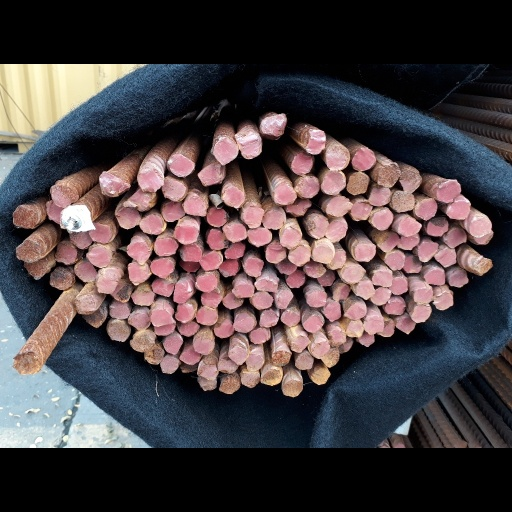dipstick: (97, 172, 130, 196), (235, 132, 262, 159), (324, 144, 350, 172), (166, 153, 195, 178), (259, 112, 289, 136), (126, 238, 153, 264), (213, 137, 238, 165), (173, 219, 199, 245), (435, 181, 463, 205), (115, 204, 143, 228), (13, 351, 39, 376), (126, 261, 151, 286), (320, 171, 346, 195), (161, 177, 187, 201), (303, 129, 326, 155), (305, 213, 329, 237), (184, 193, 208, 217), (81, 304, 105, 328), (130, 283, 155, 306), (326, 195, 352, 217), (49, 268, 75, 290), (468, 253, 492, 276), (413, 198, 437, 221), (352, 148, 375, 172), (60, 208, 84, 231), (137, 170, 162, 192), (294, 177, 320, 198), (288, 243, 311, 266), (240, 206, 263, 229), (369, 208, 393, 230), (290, 153, 314, 175), (278, 226, 302, 248), (265, 239, 287, 263), (22, 258, 46, 280), (390, 190, 415, 211), (399, 170, 421, 193), (346, 174, 369, 196), (325, 220, 348, 242), (321, 298, 343, 321), (162, 201, 184, 224), (205, 228, 228, 250), (106, 320, 129, 342), (96, 271, 119, 293), (342, 298, 366, 319), (221, 187, 245, 208), (87, 246, 111, 267), (50, 186, 74, 207), (73, 261, 97, 282), (375, 231, 400, 251), (340, 263, 365, 283), (247, 227, 272, 247), (172, 278, 192, 303), (15, 241, 40, 261), (68, 230, 93, 250), (445, 200, 471, 219), (139, 215, 165, 234), (87, 224, 113, 243), (162, 333, 184, 355), (110, 280, 132, 302), (55, 242, 77, 264), (301, 312, 324, 333), (397, 216, 421, 236), (353, 243, 377, 263), (223, 222, 247, 242), (198, 251, 222, 271), (150, 258, 174, 278), (442, 228, 467, 247), (153, 238, 178, 257), (418, 240, 439, 262), (349, 200, 371, 221), (325, 325, 347, 346), (13, 207, 34, 229), (468, 216, 491, 236), (378, 165, 398, 188), (307, 338, 330, 358), (197, 166, 220, 186), (127, 311, 150, 331), (194, 307, 218, 326), (127, 191, 151, 210), (130, 334, 155, 352), (273, 185, 295, 205), (205, 206, 227, 226), (232, 313, 254, 333), (73, 294, 95, 314), (435, 247, 458, 266), (180, 346, 203, 365), (150, 278, 173, 297), (194, 274, 218, 292), (384, 251, 405, 271), (342, 319, 364, 338), (262, 210, 284, 229), (180, 243, 202, 262), (45, 201, 64, 223), (311, 245, 334, 263), (371, 286, 391, 306), (175, 303, 195, 323), (424, 268, 445, 287), (288, 335, 309, 354), (213, 319, 234, 338), (410, 305, 432, 323), (328, 249, 346, 271), (149, 309, 172, 326), (286, 201, 312, 216), (448, 268, 468, 287), (433, 291, 453, 310), (363, 316, 383, 335), (331, 281, 350, 301), (310, 366, 330, 385), (273, 290, 293, 309), (285, 269, 305, 288), (243, 257, 263, 276), (160, 355, 180, 374), (110, 300, 129, 320), (427, 218, 448, 236), (282, 380, 303, 398), (261, 368, 282, 386), (218, 376, 239, 394), (224, 242, 245, 260), (143, 345, 164, 363), (258, 310, 280, 327), (295, 351, 314, 370), (395, 316, 415, 334), (372, 269, 392, 287), (321, 348, 339, 368), (307, 290, 327, 308), (280, 310, 300, 328), (218, 259, 238, 277), (233, 280, 253, 298), (200, 292, 222, 308), (255, 278, 278, 293), (228, 347, 247, 365), (239, 371, 259, 388), (248, 328, 270, 343), (400, 233, 419, 250), (389, 277, 408, 294), (356, 280, 373, 299), (246, 354, 265, 371), (193, 339, 213, 355), (276, 259, 297, 274), (269, 351, 290, 366), (222, 293, 243, 308), (197, 365, 218, 380), (178, 321, 199, 336), (404, 255, 421, 273), (413, 288, 432, 304), (378, 318, 394, 337), (304, 263, 325, 277), (474, 229, 493, 244), (385, 301, 405, 315), (218, 359, 238, 373), (179, 258, 199, 272), (357, 332, 375, 347), (153, 323, 175, 335), (198, 378, 218, 391), (318, 271, 335, 286), (336, 340, 353, 353)
